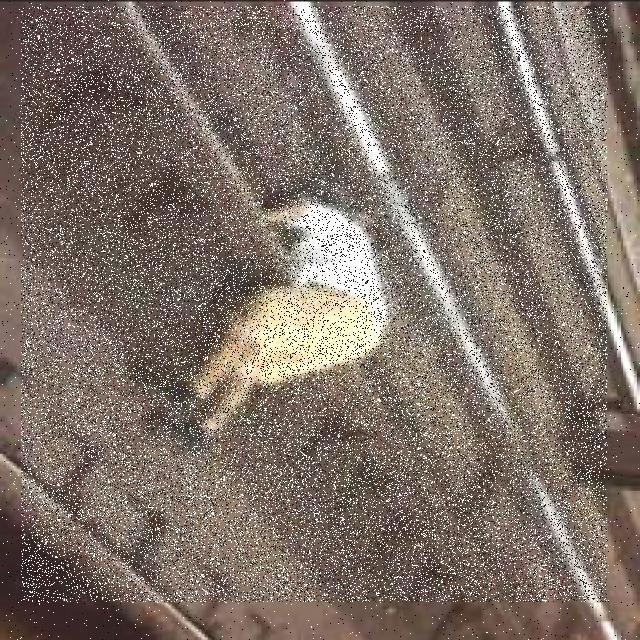danger: (163, 170, 397, 447)
rail: (102, 0, 638, 640), (485, 2, 639, 438)
